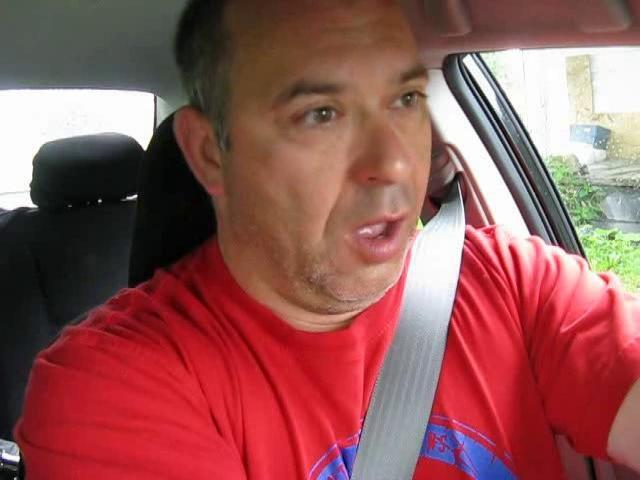eye_open: (286, 98, 352, 136), (386, 84, 430, 118)
face: (255, 48, 448, 300)
